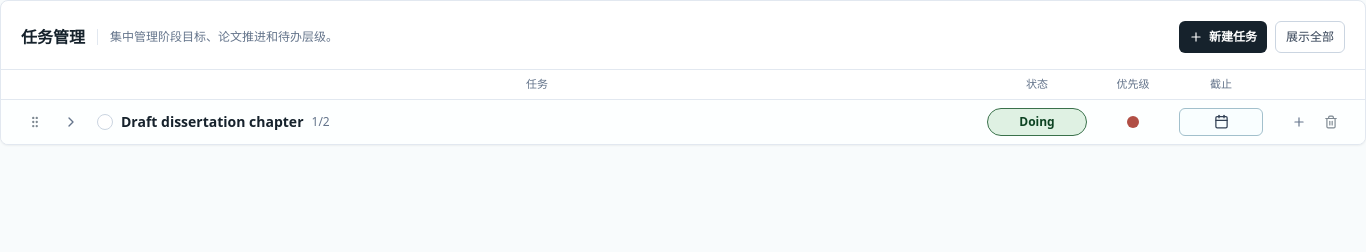
Test: TaskManager › renders compact task rows and keeps subtasks collapsed until expanded
This screenshot has width=1366, height=252.
Expected: the text "集中管理阶段目标、论文推进和待办层级。" is shown, [110,27,338,47]
Expected: the column heading "任务" is shown, [526,76,548,91]
Click the button named "Expand subtasks for Draft dissertation chapter" at (71,122), box [57,108,85,136]
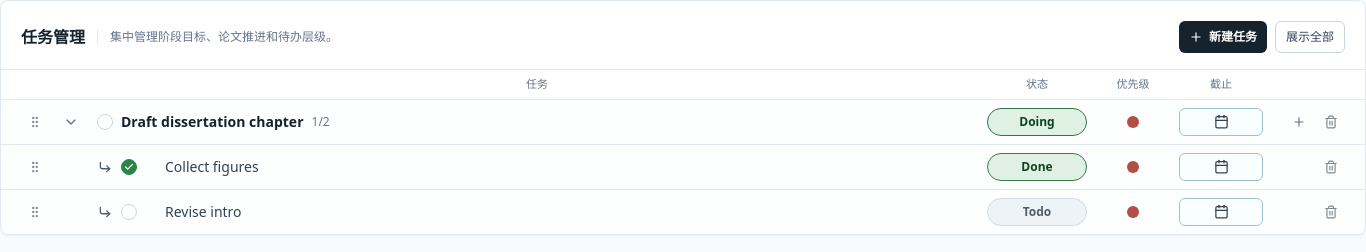
Result: the button "Collect figures" is shown at [145,156,259,176]
Result: the button "Revise intro" is shown at [145,202,242,222]
